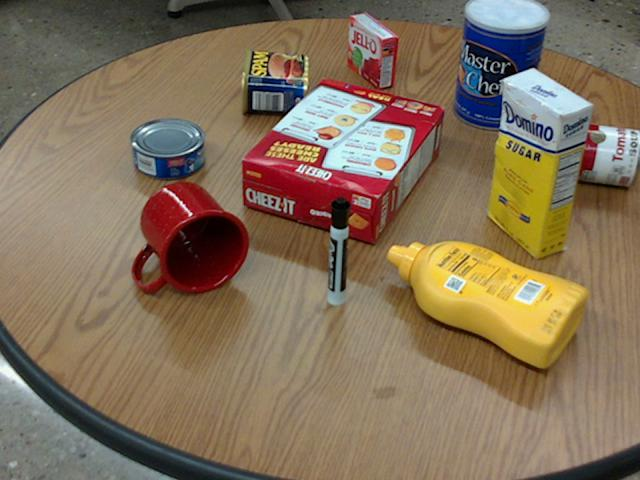cracker_box: (240, 79, 443, 243)
gelatin_box: (348, 12, 397, 87)
large_marker: (326, 196, 349, 305)
master_chef_can: (453, 0, 548, 128)
mug: (131, 182, 247, 293)
mustard_bottle: (386, 240, 586, 366)
potted_meat_can: (240, 48, 307, 112)
sugar_box: (489, 68, 590, 258)
tomato_soup_can: (542, 118, 639, 184)
tuna_fish_can: (129, 117, 203, 177)
